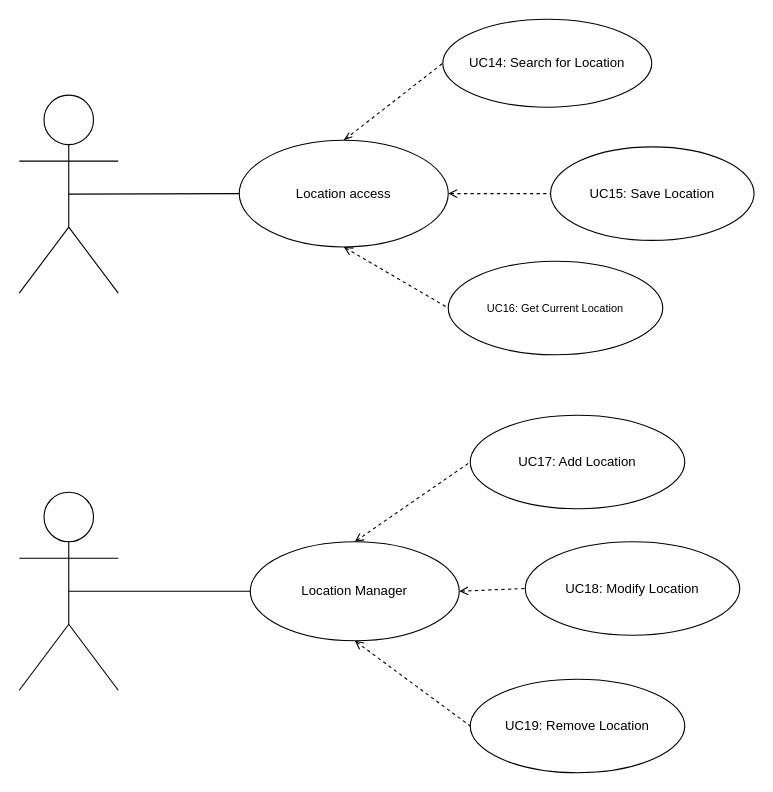
The diagram is 773 pixels wide and 792 high, and some of its shapes have lost their labels. Here are the shapes that lost their labels. From the top down, the box of each, then its label:
(18, 94, 118, 293): User
(18, 491, 118, 690): Admin
